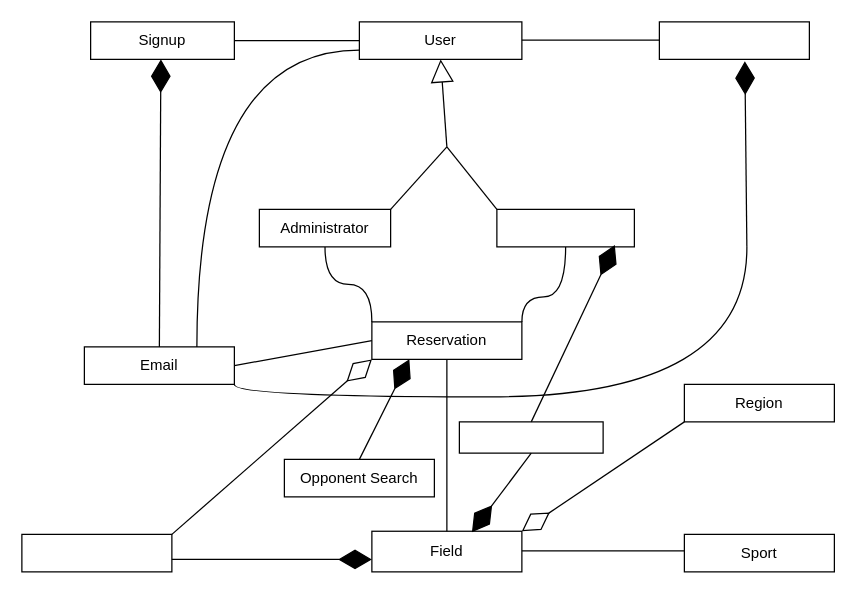
This 856x594 diagram has some shape labels left out. The centre of each missing label's shape, as x and y in pixels:
"Customer" belongs at point (565, 227).
"Login" belongs at point (733, 40).
"Reservation Time" belongs at point (96, 552).
"Review" belongs at point (530, 437).
